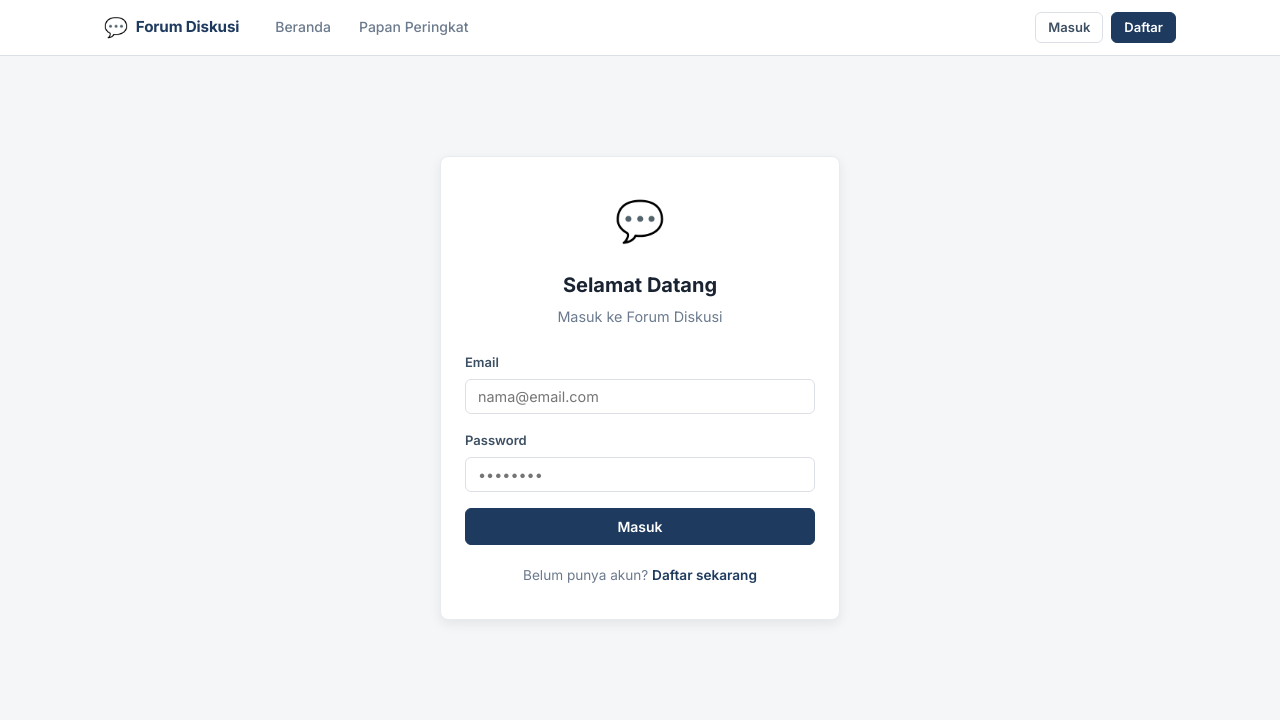
Test: Login Flow › should navigate to register page from login page
This screenshot has width=1280, height=720.
Click the link "Daftar sekarang".
click(705, 575)  # box [652,567,757,583]
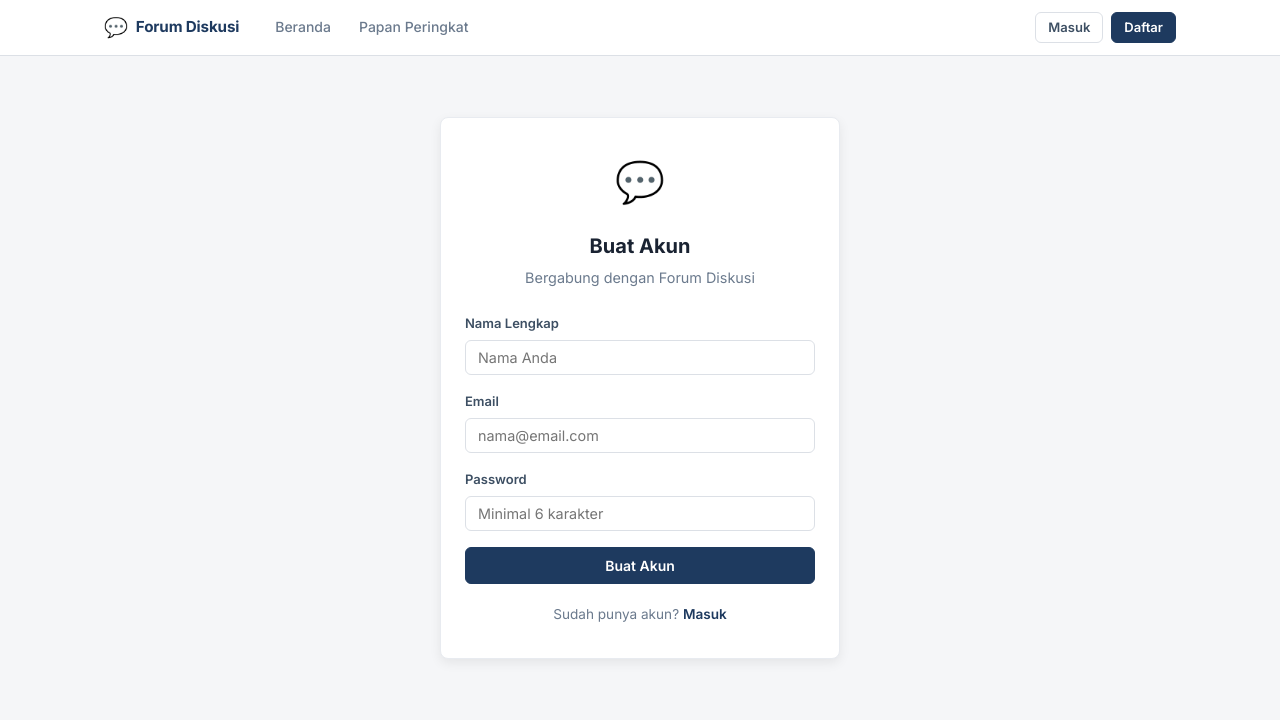
Now the heading "Buat Akun" is shown, box [590,234,690,258]
